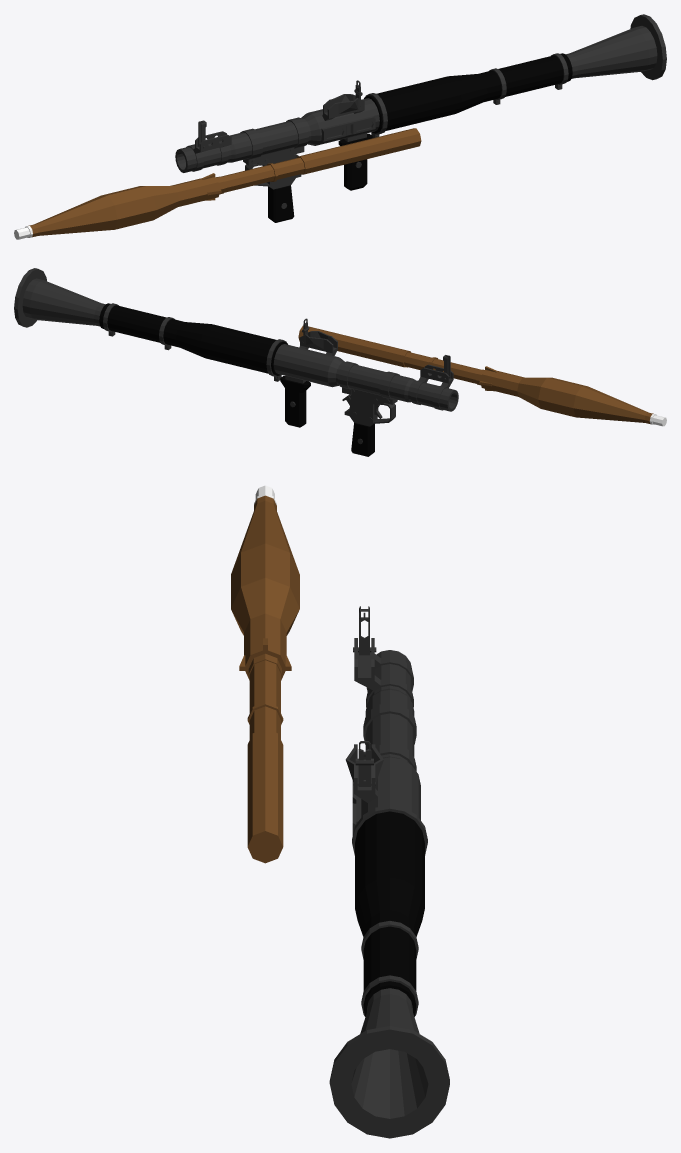
Rendered from rpg7.fbx.
The picture shows the model from 3 angles, top to bottom: view 1: azimuth 30°, elevation 25°; view 2: azimuth 150°, elevation 25°; view 3: azimuth 270°, elevation 25°; orthographic projection. The views are drawn at different scales.
Visible parts, largest first — view 1: Cylinder.001, Cylinder; view 2: Cylinder.001, Cylinder; view 3: Cylinder.001, Cylinder.
Boxes of the visible parts, x1=… form: Cylinder.001: x1=175, y1=14, x2=666, y2=222; Cylinder: x1=14, y1=128, x2=421, y2=239; Cylinder.001: x1=14, y1=268, x2=458, y2=456; Cylinder: x1=298, y1=326, x2=666, y2=426; Cylinder.001: x1=329, y1=638, x2=449, y2=1138; Cylinder: x1=231, y1=485, x2=299, y2=863.
Size of the model in its own units: 1717 by 309 by 270.
